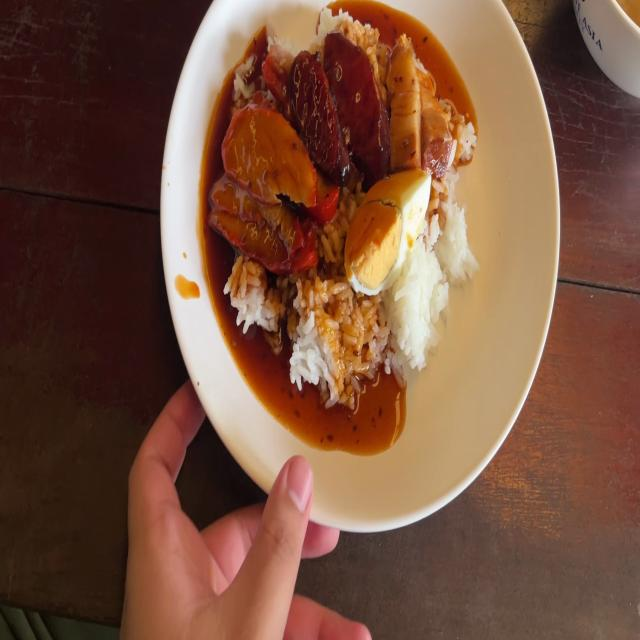01boiled_egg: (348, 171, 427, 300)
01chainese_sausage: (289, 34, 384, 172), (322, 30, 388, 164), (290, 55, 348, 178)
01crispy_pork: (389, 41, 453, 174), (389, 36, 422, 168), (418, 53, 452, 178)
01red_pork: (212, 100, 322, 267), (209, 172, 309, 268), (219, 101, 315, 193)
01red_pork_and_crispy_pork: (215, 4, 483, 405)
01rice: (296, 299, 388, 393), (391, 243, 448, 359), (435, 190, 469, 280), (232, 270, 275, 332)
